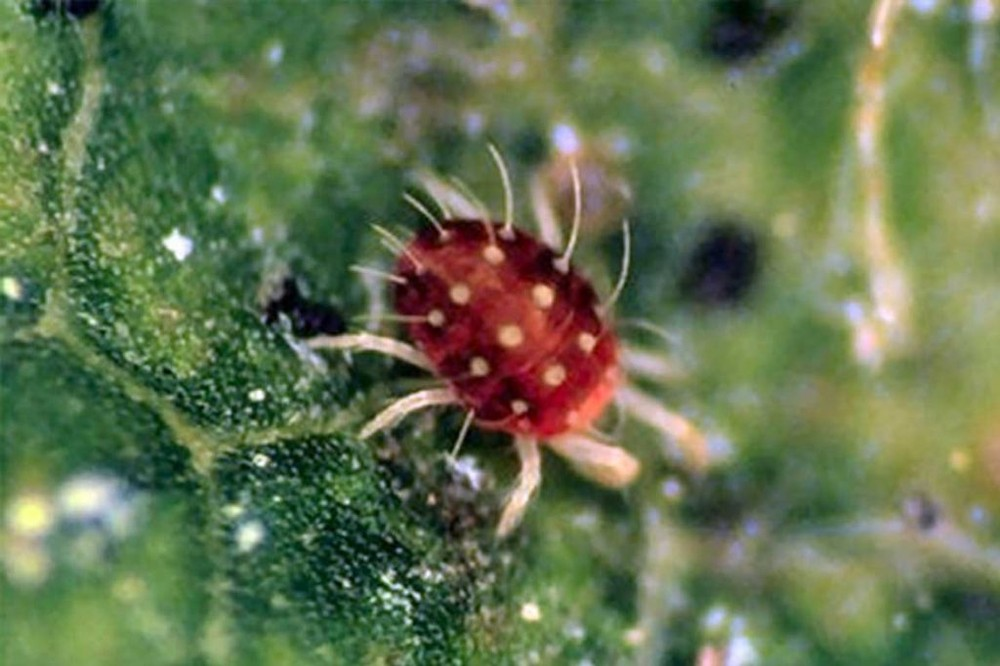Aracnido Rojo: (299, 150, 718, 569)
